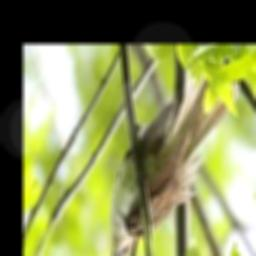Cuckoo: (106, 77, 239, 256)
